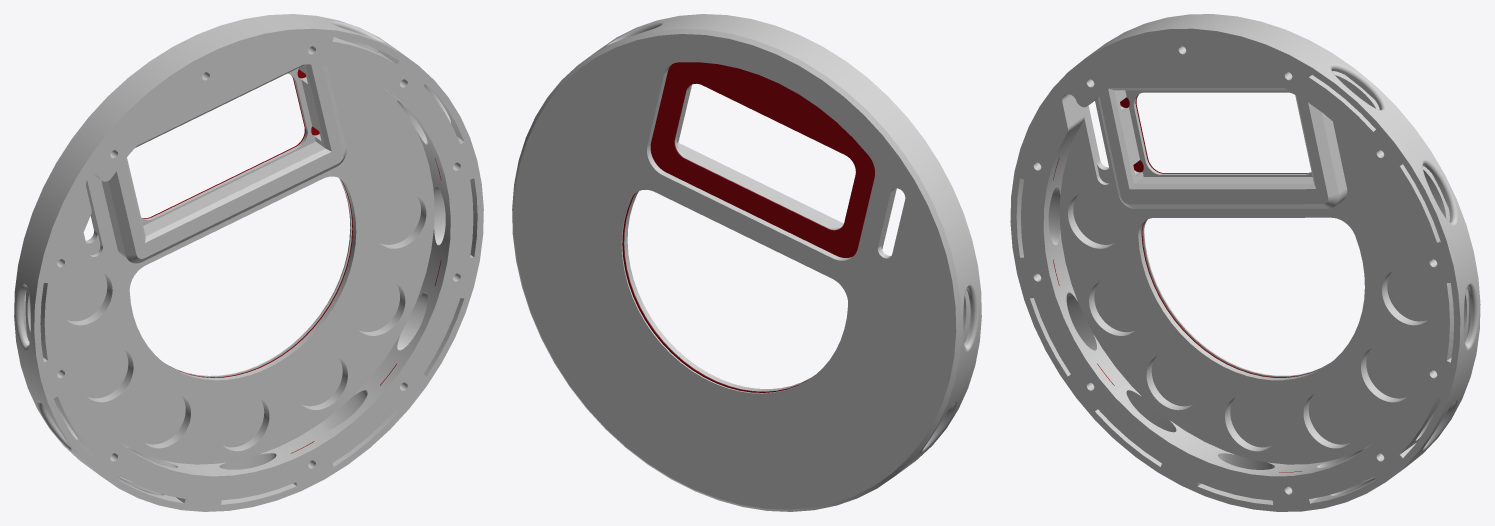
File: Bottom_Housing.glb
The picture shows the model from 3 angles, left to right: view 1: azimuth 30°, elevation 25°; view 2: azimuth 150°, elevation 25°; view 3: azimuth 330°, elevation 25°; orthographic projection.
Visible parts, largest first — view 1: Housing_bottom; view 2: Housing_bottom, Magnet_cover, Mesh_printHelp; view 3: Housing_bottom.
Boxes of the visible parts, x1=… form: Housing_bottom: x1=14, y1=14, x2=483, y2=511; Housing_bottom: x1=512, y1=14, x2=981, y2=511; Magnet_cover: x1=650, y1=62, x2=874, y2=257; Mesh_printHelp: x1=622, y1=193, x2=807, y2=392; Housing_bottom: x1=1010, y1=14, x2=1480, y2=511.
Size of the model in its own units: 0.129 by 0.129 by 0.011.
